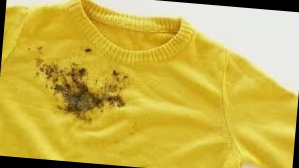earth: (38, 63, 130, 124)
